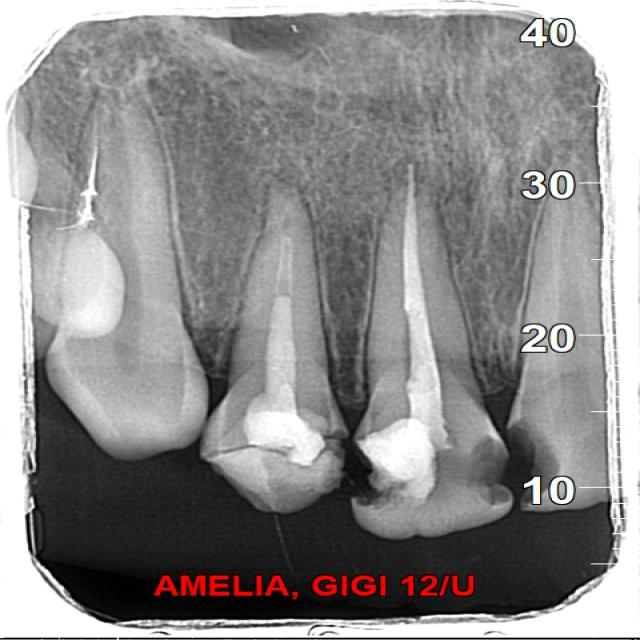individual-tooth-8tto: (39, 67, 209, 457), (351, 191, 523, 541), (204, 182, 339, 518)
